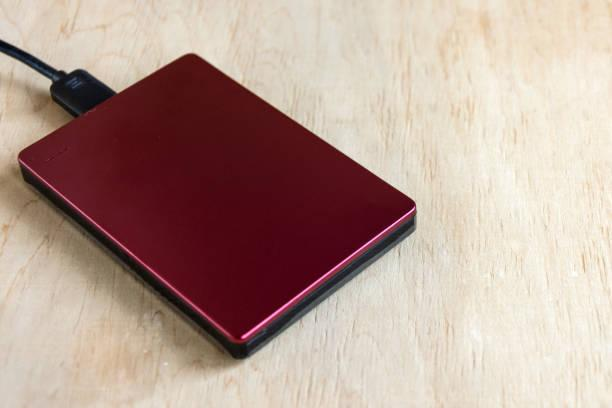HDD: (17, 55, 418, 360)
